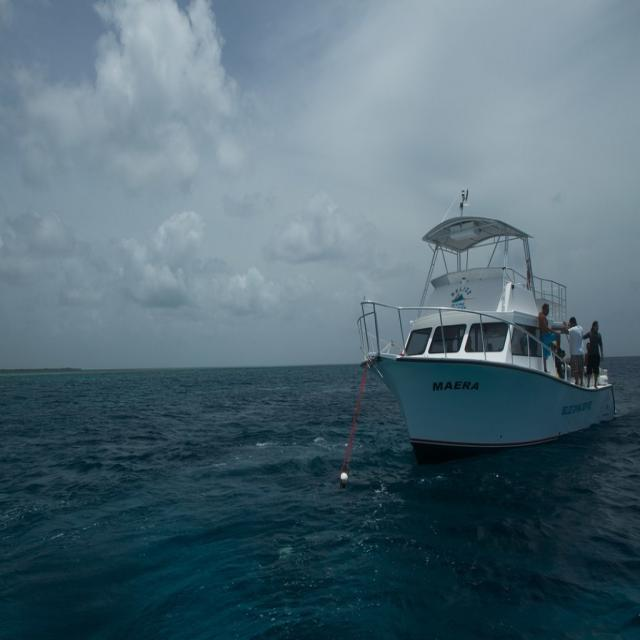Boat: (335, 185, 610, 466)
